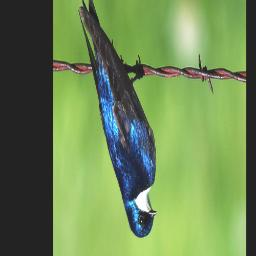Swallow: (78, 0, 158, 239)
